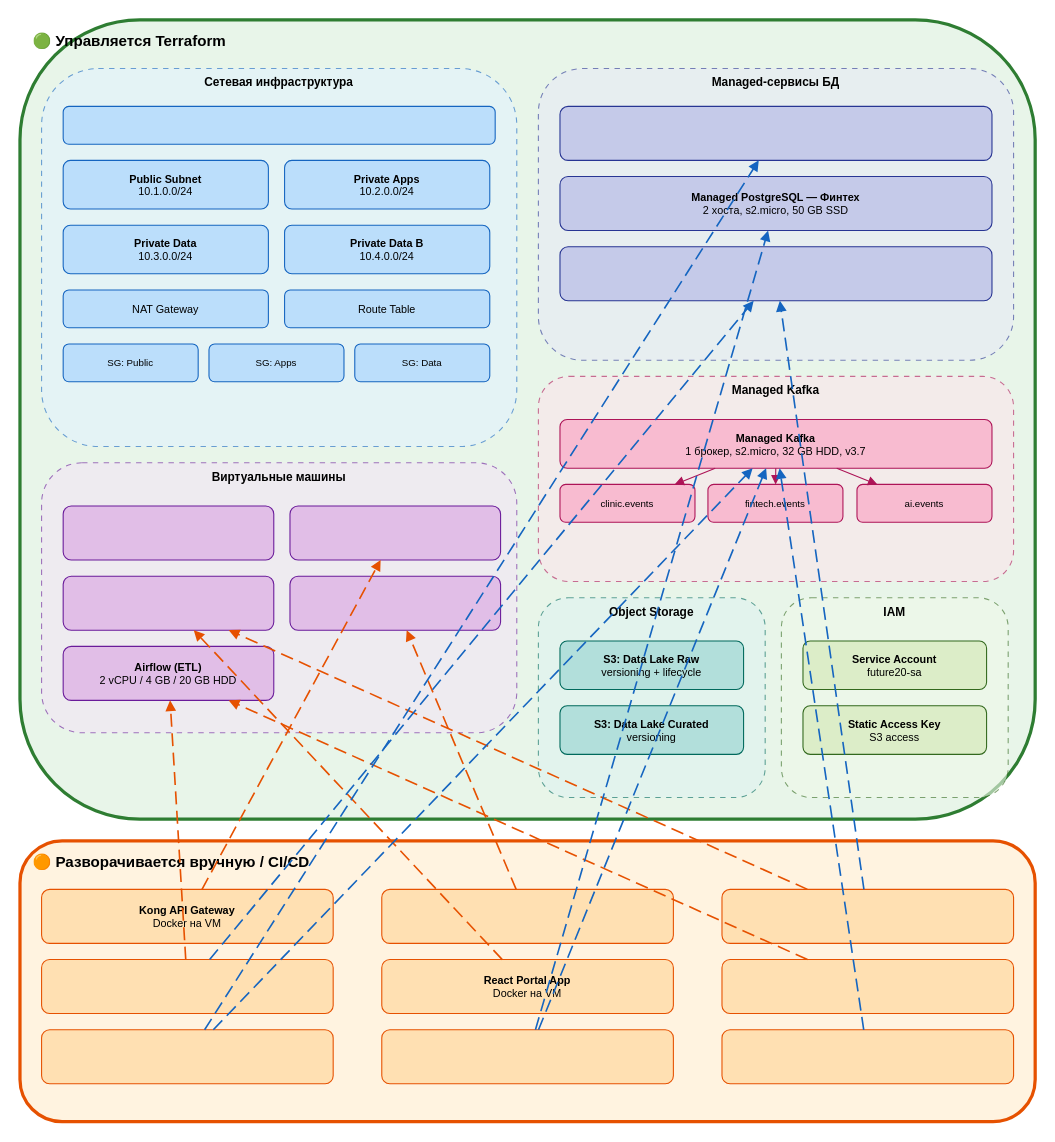
Some shapes in this 1055 by 1142 pixel diagram are drawn without their labels. The shapes that lost their labels are listed below. From the top down, each one's centre as x and y in pixels, then its label:
the point at 278,124: VPC Network
the point at 775,132: Managed PostgreSQL — Клиники 2 хоста, s2.micro, 50 GB SSD
the point at 775,273: Managed ClickHouse — Аналитика 1 хост, s2.micro, 32 GB HDD
the point at 168,532: Bastion 2 vCPU / 2 GB / 10 GB HDD
the point at 395,532: API Gateway 2 vCPU / 4 GB / 15 GB HDD
the point at 168,602: Portal + BI 2 vCPU / 4 GB / 15 GB HDD
the point at 395,602: Keycloak (IAM) 2 vCPU / 2 GB / 10 GB HDD
the point at 527,915: Keycloak App Docker на VM
the point at 867,915: Apache Superset Docker на VM
the point at 186,986: Apache Airflow Docker на VM
the point at 867,986: dbt Models CI/CD pipeline
the point at 186,1056: Clinic Services Docker
the point at 527,1056: FinTech Services Docker
the point at 867,1056: AI Services Docker
